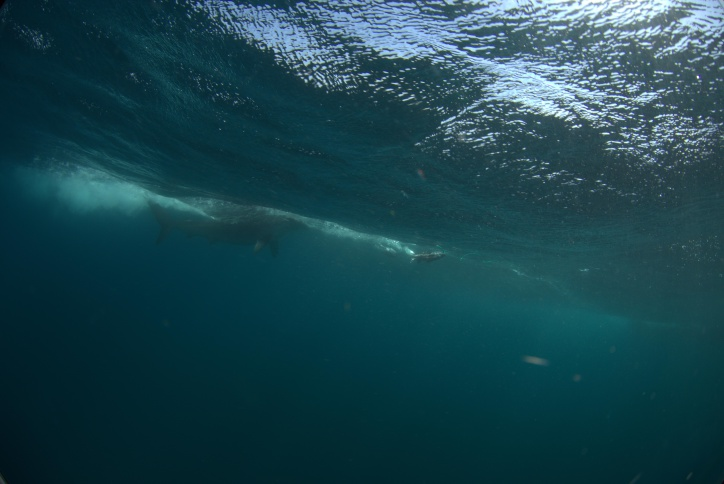Hammer: (129, 195, 312, 270)
